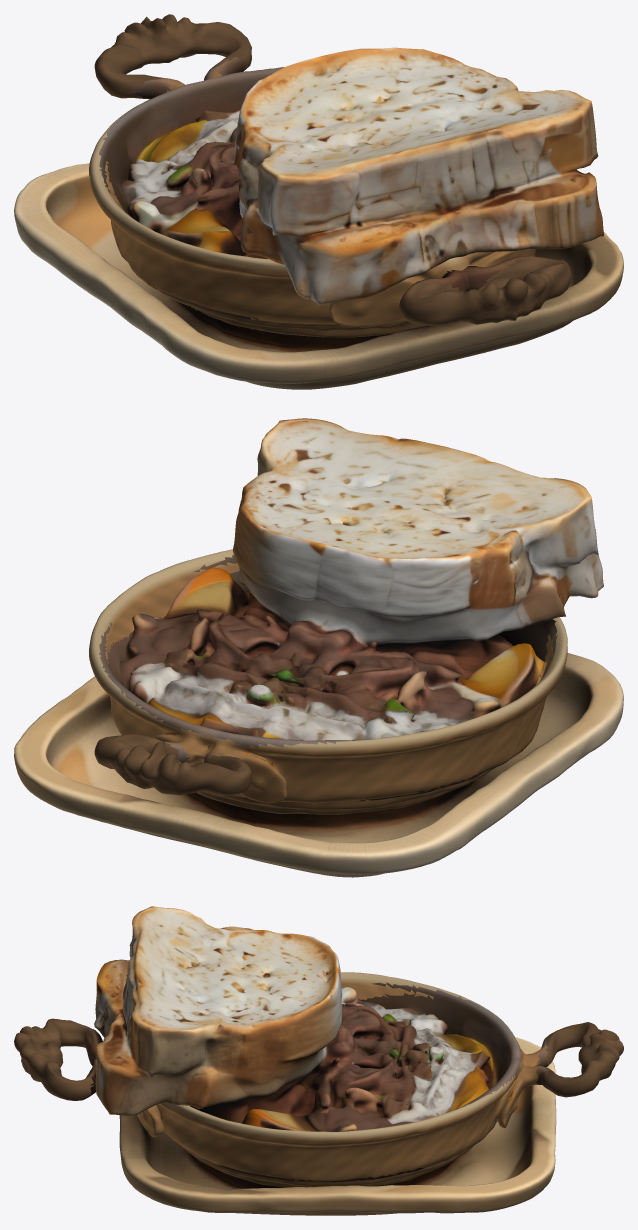
The model's file is realistic_bronze_plate_12MB.glb.
3 renders of one model, top to bottom at view 1: azimuth 30°, elevation 25°; view 2: azimuth 150°, elevation 25°; view 3: azimuth 270°, elevation 25°, orthographic. The views are drawn at different scales.
Visible parts, largest first — view 1: model; view 2: model; view 3: model.
Boxes of the visible parts, box(x1,y1,x2,y2) form: model: box(14, 14, 623, 389); model: box(14, 418, 623, 877); model: box(14, 906, 623, 1215).
Size of the model in its own units: 1.26 by 0.657 by 1.89.
2 materials, 2 textured.
